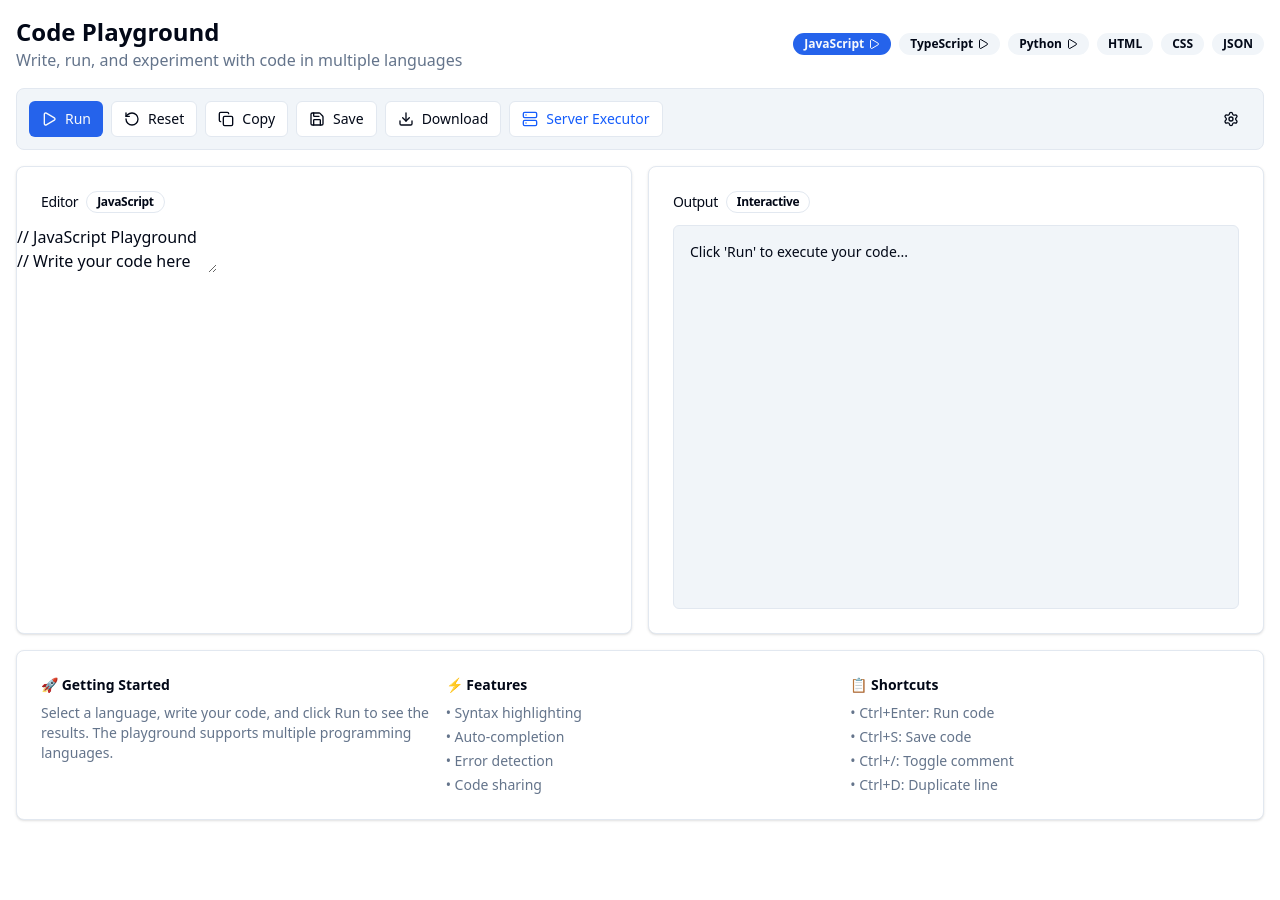
Test case: CodePlayground › marks as saved when clicking save button
Click the button "Save" at (336,119), box x1=296 y1=101 x2=377 y2=137
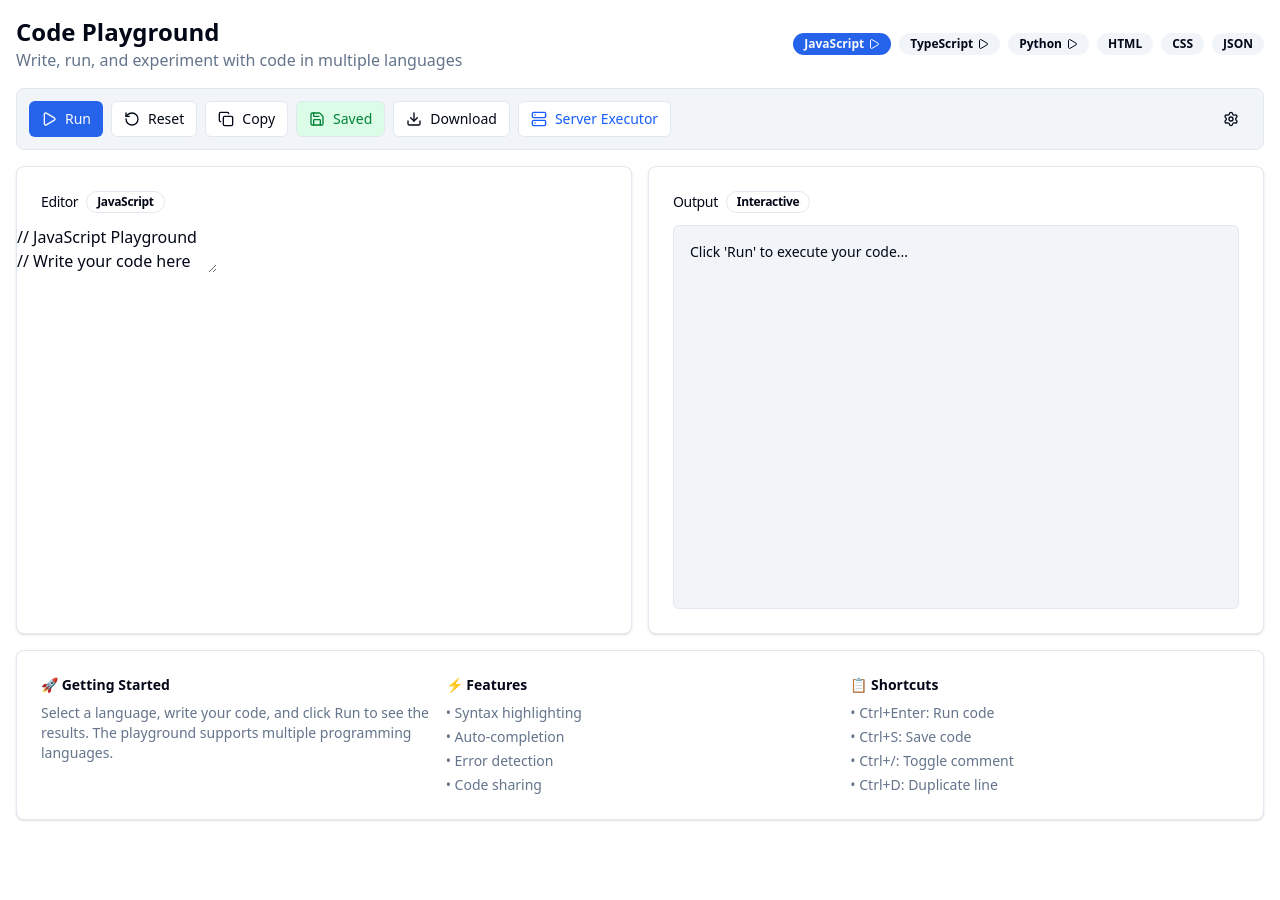
Expected: the button "Saved" is shown, x1=296 y1=101 x2=385 y2=137
